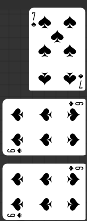6C: (5, 147, 23, 155)
7C: (77, 73, 84, 90)
